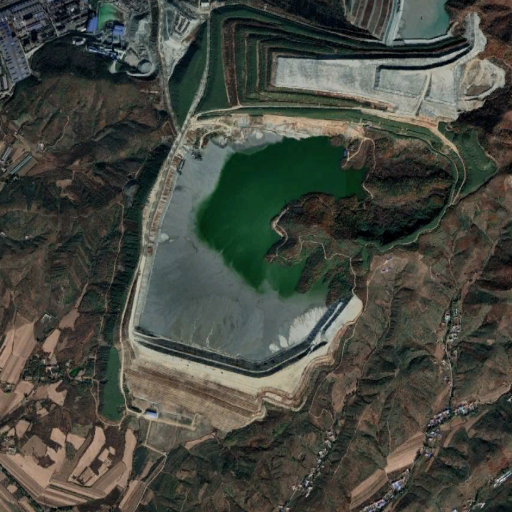tp: (127, 106, 462, 430)
